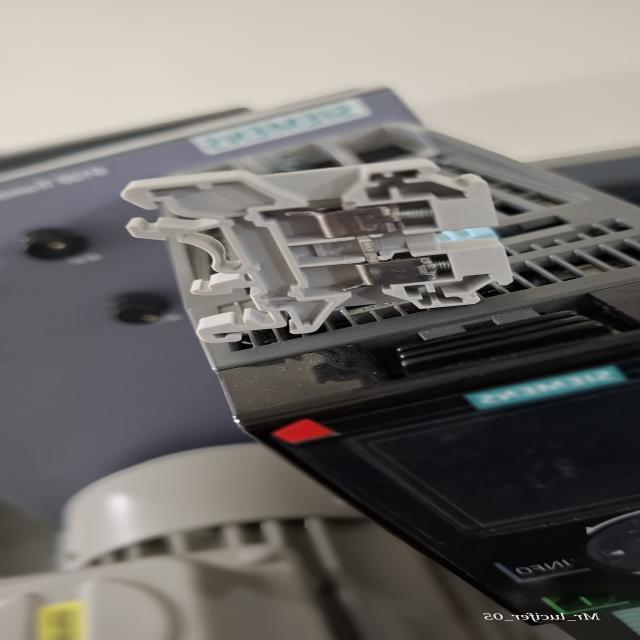Pass: (110, 148, 520, 350)
